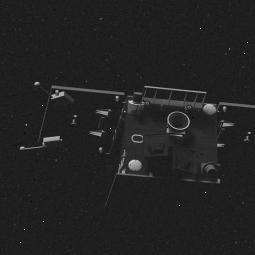proba_2: (24, 73, 254, 200)
